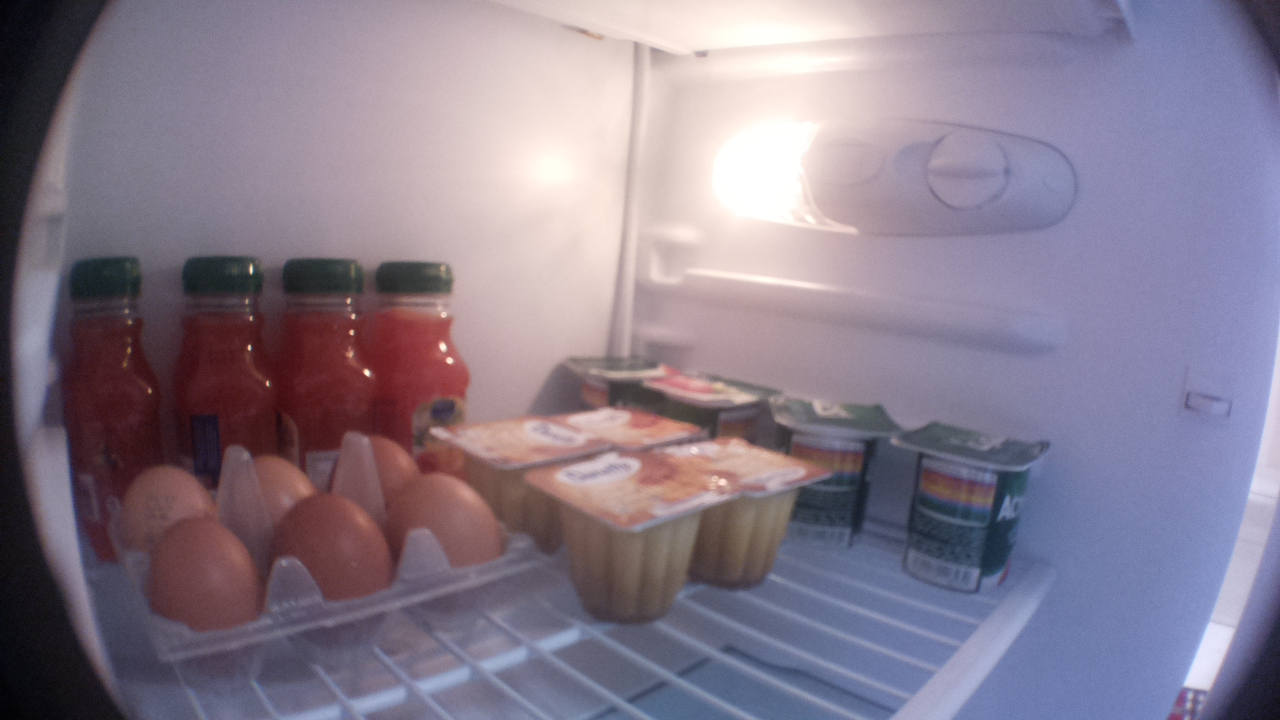egg: (263, 498, 401, 665), (138, 516, 267, 681), (391, 473, 509, 619), (114, 465, 219, 555), (222, 453, 323, 537), (332, 428, 430, 512)
juice: (54, 254, 159, 564), (163, 247, 277, 495), (364, 256, 469, 475), (268, 247, 371, 464)
yoghurt: (523, 449, 729, 631), (887, 415, 1055, 604), (664, 434, 832, 594), (767, 382, 905, 553), (436, 413, 601, 478), (556, 344, 684, 411), (640, 366, 784, 417), (553, 407, 713, 450)
